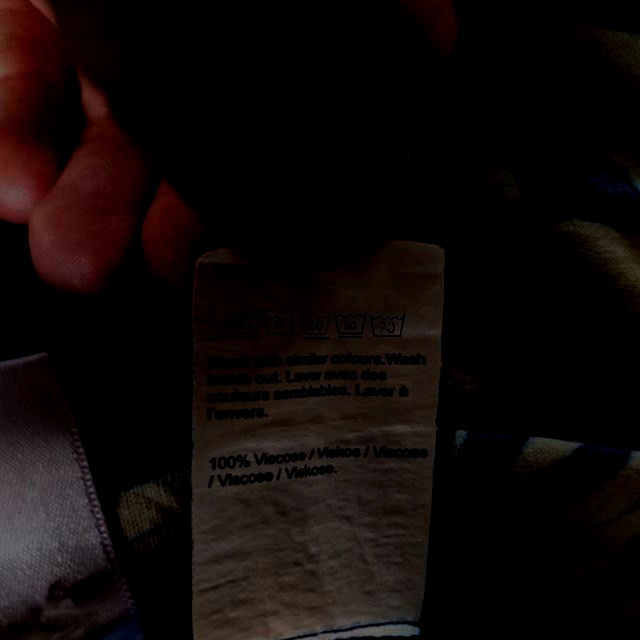50C: (225, 309, 263, 338), (336, 310, 367, 341)
60C: (264, 308, 296, 339), (302, 310, 332, 341)
70C: (369, 312, 409, 340)
